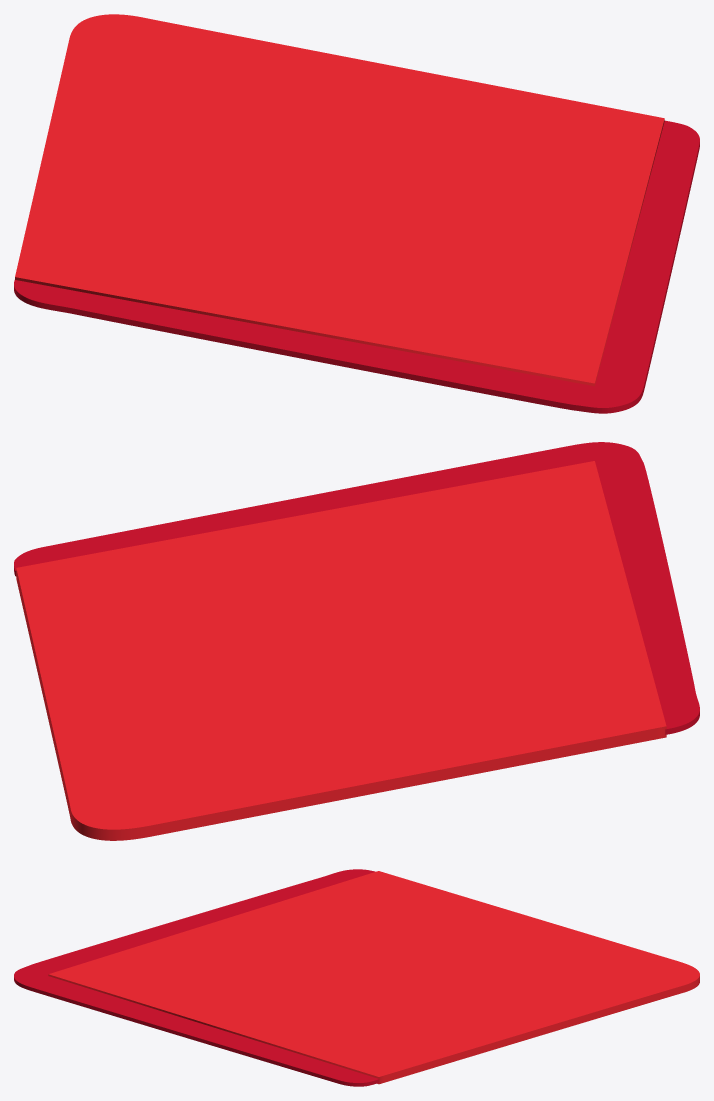
The model's file is emoji_u2666.glb.
3 renders of one model, top to bottom at view 1: azimuth 30°, elevation 25°; view 2: azimuth 150°, elevation 25°; view 3: azimuth 270°, elevation 25°, orthographic. The views are drawn at different scales.
Visible parts, largest first — view 1: emoji_u2666; view 2: emoji_u2666; view 3: emoji_u2666.
Boxes of the visible parts, x1,y1,x2,y2 form: emoji_u2666: (14, 14, 699, 413); emoji_u2666: (14, 442, 699, 840); emoji_u2666: (14, 869, 699, 1086).
Size of the model in its own units: 0.0252 by 0.0004 by 0.0342.
